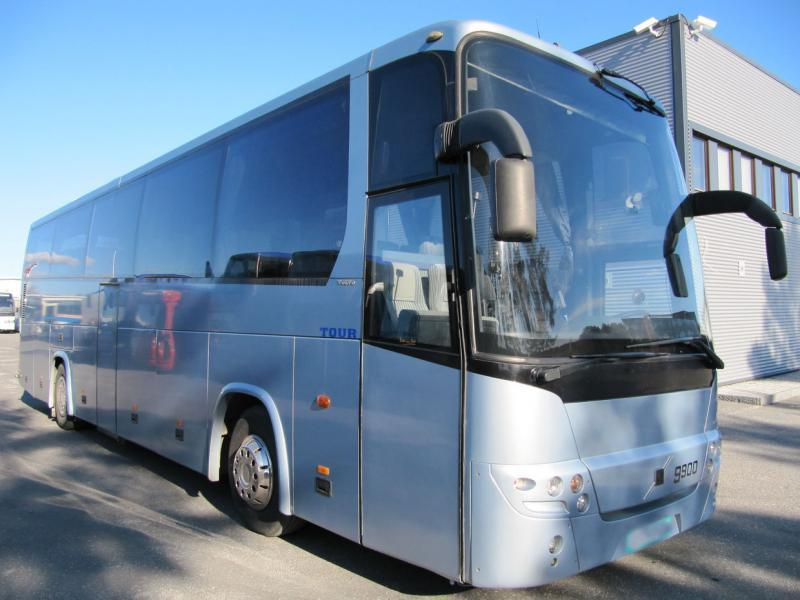bus: (48, 19, 720, 589)
